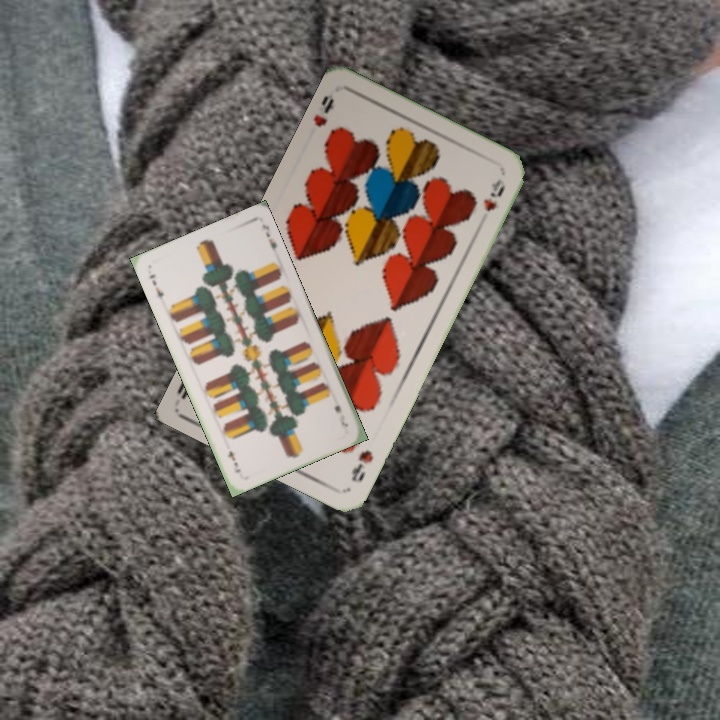E7: (145, 270, 167, 300), (330, 401, 351, 430)
H9: (347, 445, 376, 485), (309, 91, 337, 130)
